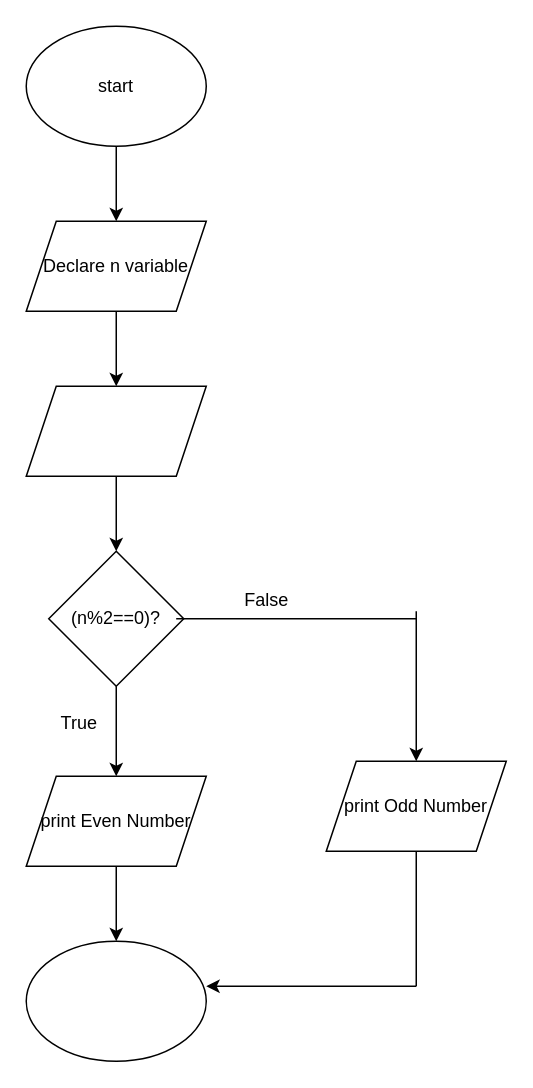
Image size: 533x1088. Some labels were removed from this diagram. Here are the shapes that lost their labels. From the top down, the centre of each, then its label:
(x=115, y=430): Read the n value
(x=115, y=1000): Stop
